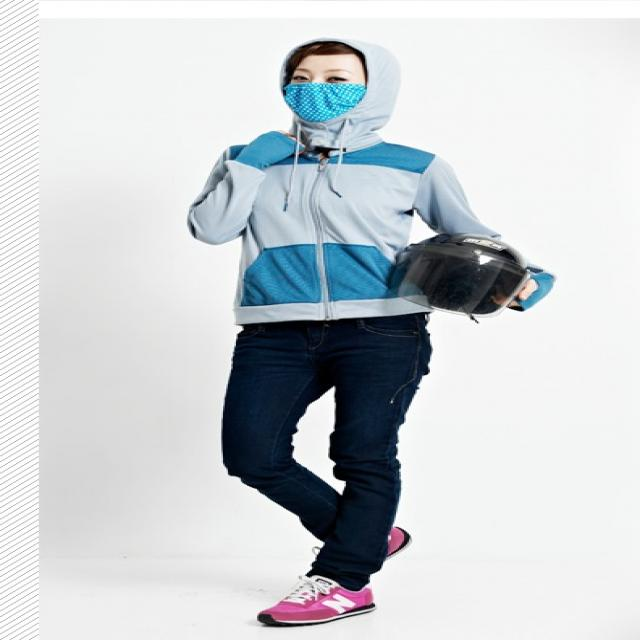mask: (284, 48, 362, 120)
